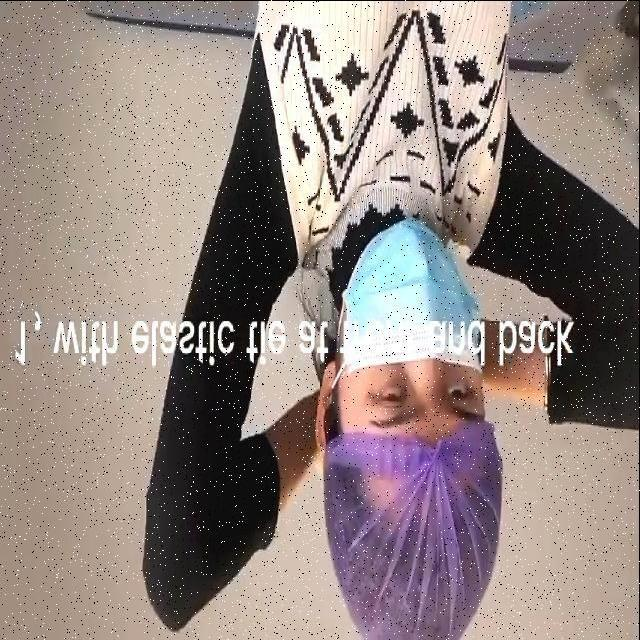gloves: (328, 428, 510, 640)
mask: (345, 232, 484, 374)
